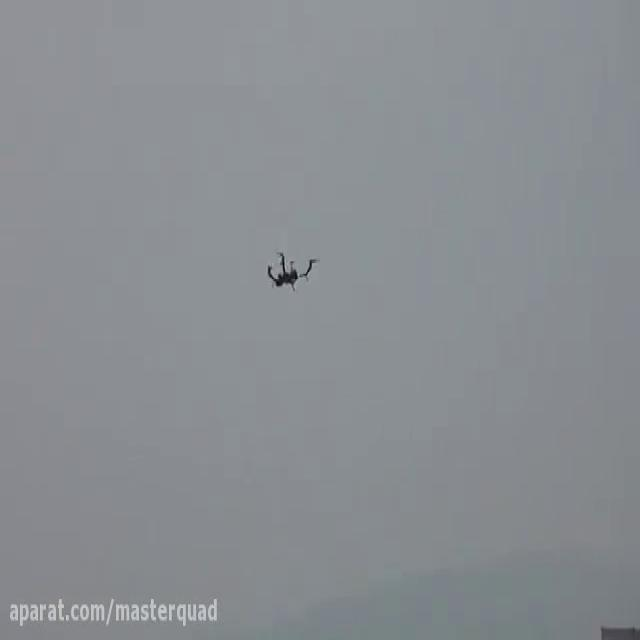drone: (261, 242, 322, 302)
